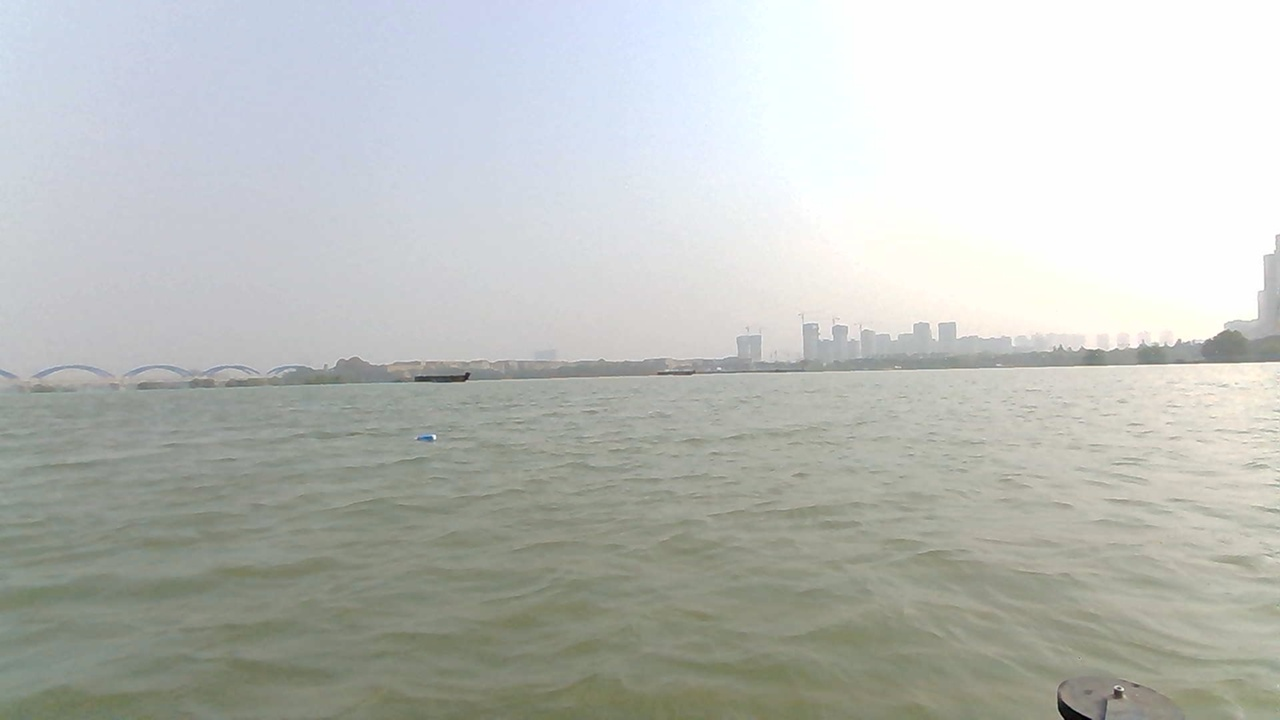bottle: (413, 431, 443, 446)
